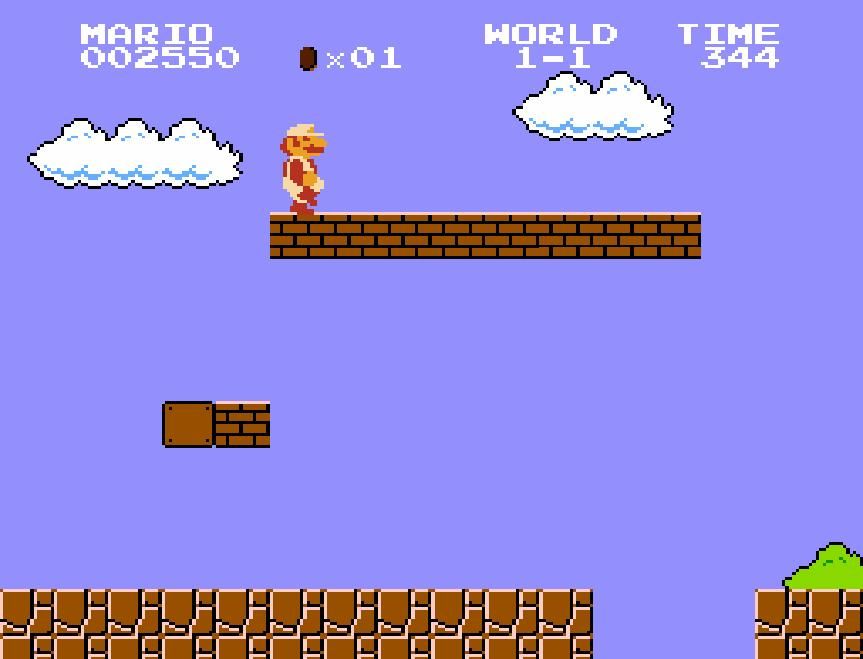fire_mario: (274, 118, 332, 216)
